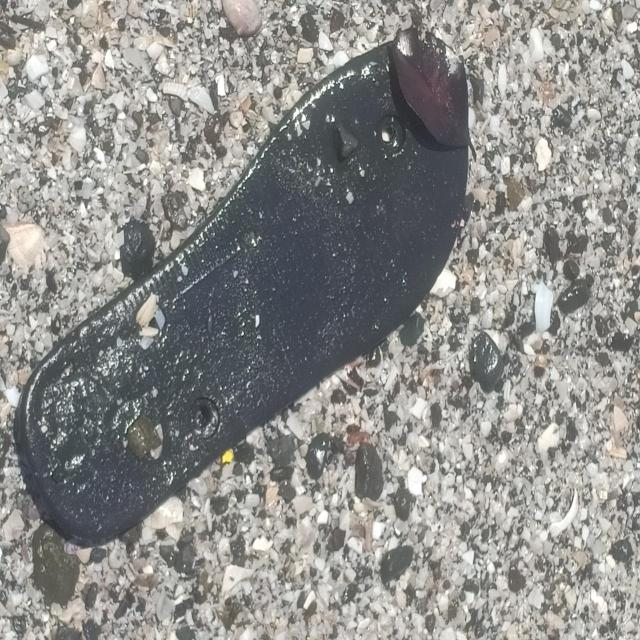rubber_waste: (21, 38, 471, 544)
